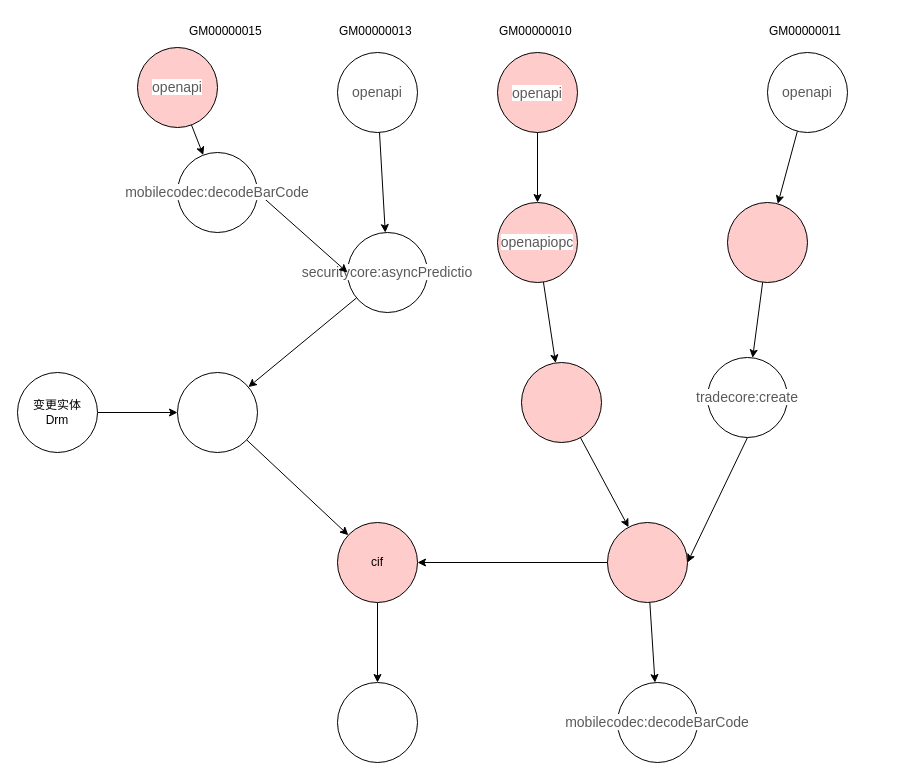
Some shapes in this 905 by 780 pixel diagram are drawn without their labels. The shapes that lost their labels are listed below. From the top down, each one's box as (x1, y1, x2, y2) in pixels, then its label:
(726, 202, 808, 282): cif:findUserInfo
(176, 372, 258, 452): unitradeprodutc:invoke
(520, 362, 602, 442): mif:queryDecisions
(606, 522, 688, 602): mobileanti:safecheck
(336, 682, 418, 762): customerTairCache
